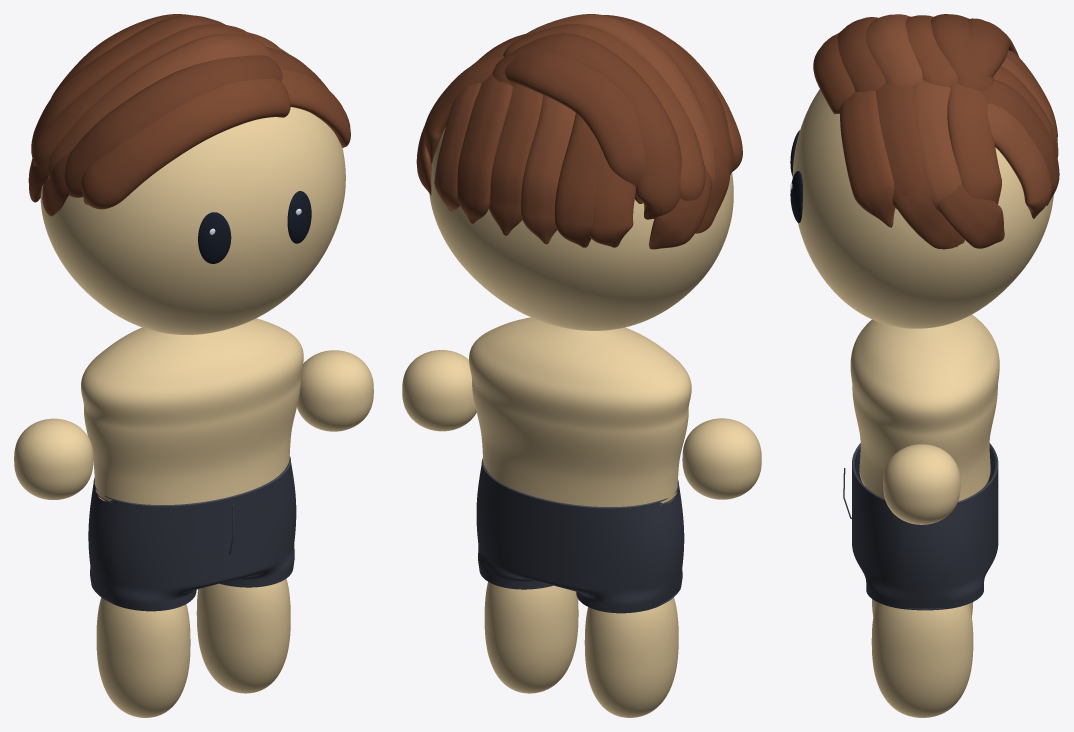
The model's file is Masculine-base.glb.
The picture shows the model from 3 angles, left to right: view 1: azimuth 30°, elevation 25°; view 2: azimuth 150°, elevation 25°; view 3: azimuth 270°, elevation 25°; orthographic projection.
Parts seen in each view (by area): view 1: Skin / soft oval head, Skin / rounded torso, Clothing / fixed shorts, Hair / Side part main 0, Skin / leg blob -1, Skin / leg blob 1, Hair / Side part main 1, Skin / orb hand -1, Skin / orb hand 1, Hair / Side part main 2, Hair / Side part main 3, Hair / Side part main 4 (+7 smaller); view 2: Skin / rounded torso, Skin / soft oval head, Clothing / fixed shorts, Skin / leg blob -1, Skin / leg blob 1, Hair / Side part crown, Hair / Side part main 4, Skin / orb hand -1, Skin / orb hand 1, Hair / Side part nape 2, Hair / Side part nape 4, Hair / Side part main 3 (+11 smaller); view 3: Skin / soft oval head, Skin / rounded torso, Clothing / fixed shorts, Skin / leg blob 1, Skin / orb hand 1, Hair / Side part short 0, Hair / Side part short 3, Hair / Side part short 1, Hair / Side part short 2, Hair / Side part nape 5, Hair / Side part main 2, Hair / Side part low 1 1 (+10 smaller).
Boxes of the visible parts, x1,y1,x2,y2 form: Skin / soft oval head: (40, 107, 345, 334); Skin / rounded torso: (81, 318, 303, 504); Clothing / fixed shorts: (88, 463, 296, 611); Hair / Side part main 0: (81, 78, 290, 209); Skin / leg blob -1: (96, 597, 190, 717); Skin / leg blob 1: (196, 578, 290, 693); Hair / Side part main 1: (64, 55, 282, 197); Skin / orb hand -1: (14, 418, 93, 499); Skin / orb hand 1: (297, 350, 373, 431); Hair / Side part main 2: (48, 33, 271, 178); Hair / Side part main 3: (32, 24, 254, 166); Hair / Side part main 4: (31, 15, 225, 156); Skin / rounded torso: (469, 317, 691, 506); Skin / soft oval head: (429, 127, 733, 330); Clothing / fixed shorts: (476, 464, 684, 613); Skin / leg blob -1: (584, 597, 678, 717); Skin / leg blob 1: (484, 582, 578, 693); Hair / Side part crown: (505, 50, 645, 203); Hair / Side part main 4: (492, 33, 681, 219); Skin / orb hand -1: (682, 418, 761, 499); Skin / orb hand 1: (402, 350, 476, 431); Hair / Side part nape 2: (521, 95, 575, 244); Hair / Side part nape 4: (457, 73, 512, 223); Hair / Side part main 3: (503, 24, 705, 200); Skin / soft oval head: (792, 89, 1053, 328); Skin / rounded torso: (850, 314, 999, 501); Clothing / fixed shorts: (852, 446, 998, 610); Skin / leg blob 1: (871, 602, 973, 717); Skin / orb hand 1: (883, 444, 960, 524); Hair / Side part short 0: (840, 90, 895, 227); Hair / Side part short 3: (947, 83, 1001, 204); Hair / Side part short 1: (875, 83, 923, 209); Hair / Side part short 2: (913, 80, 962, 212); Hair / Side part nape 5: (987, 103, 1051, 218); Hair / Side part main 2: (866, 14, 922, 86); Hair / Side part low 1 1: (937, 184, 1004, 248).
Size of the model in its own units: 1.23 by 2.27 by 0.8319.
